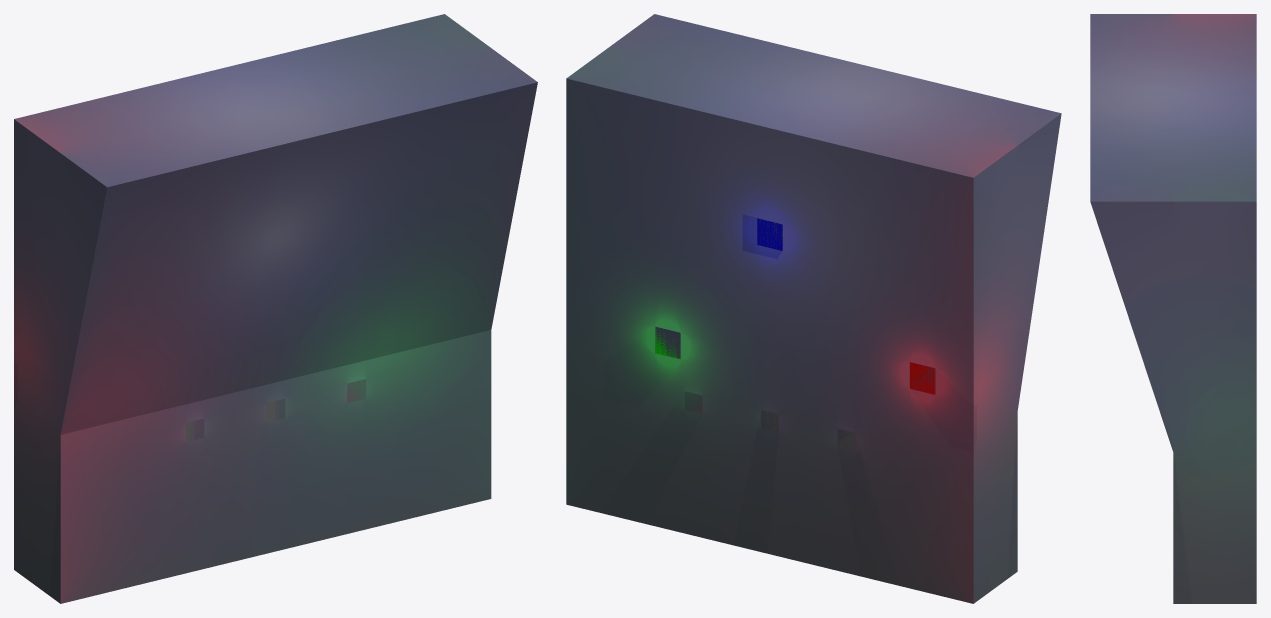
The model's file is world.obj.
3 views of the same model, side by side, from view 1: azimuth 30°, elevation 25°; view 2: azimuth 150°, elevation 25°; view 3: azimuth 270°, elevation 25° (orthographic). The views are drawn at different scales.
Visible parts, largest first — view 1: Plane_Plane.001; view 2: Plane_Plane.001; view 3: Plane_Plane.001.
Part boxes in pixels (box(x1,y1,x2,y2)): Plane_Plane.001: box(14, 14, 537, 603); Plane_Plane.001: box(566, 14, 1061, 603); Plane_Plane.001: box(1090, 14, 1256, 603).
Size of the model in its own units: 16 by 16 by 6.
Materials: 4 (4 with a texture image).
